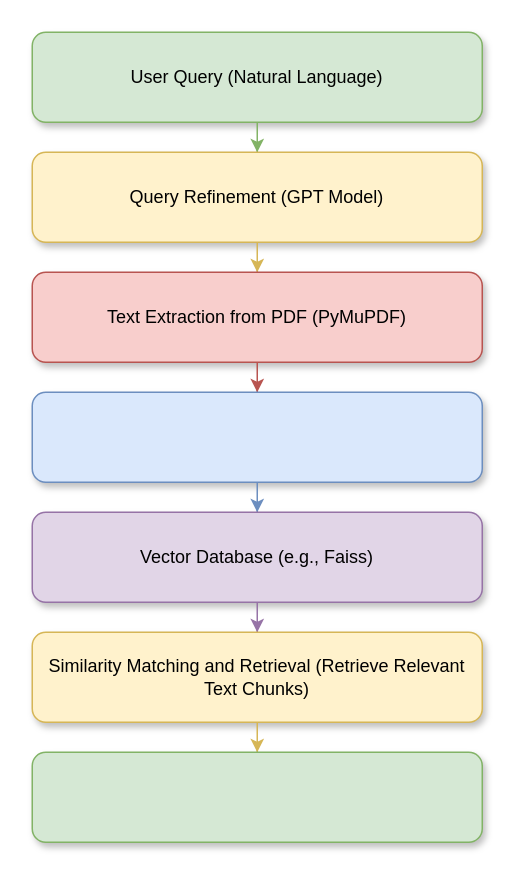
The diagram is 518 pixels wide and 879 high, and some of its shapes have lost their labels. The shapes that lost their labels are listed below. From the top down, each one's centre as x and y in pixels, then its label:
the point at 258,439: Text Chunking and Embeddings (Sentence Transformer-based Model)
the point at 258,799: Final Answer to User
